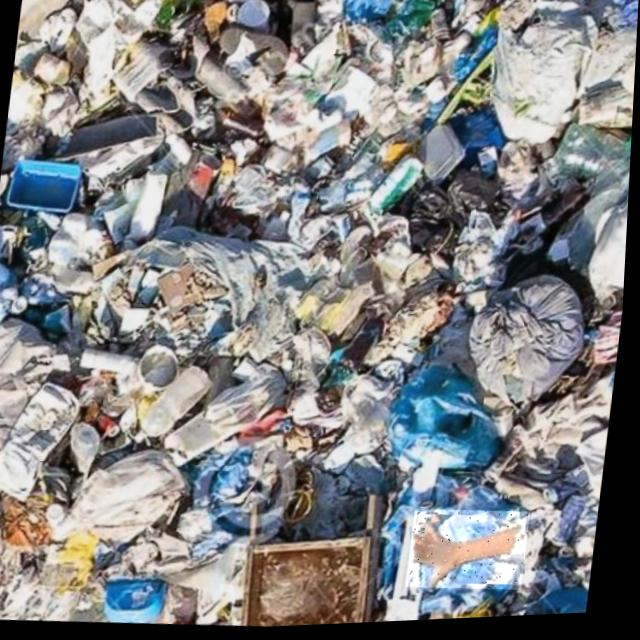Person in Rubble: (412, 508, 536, 598)
